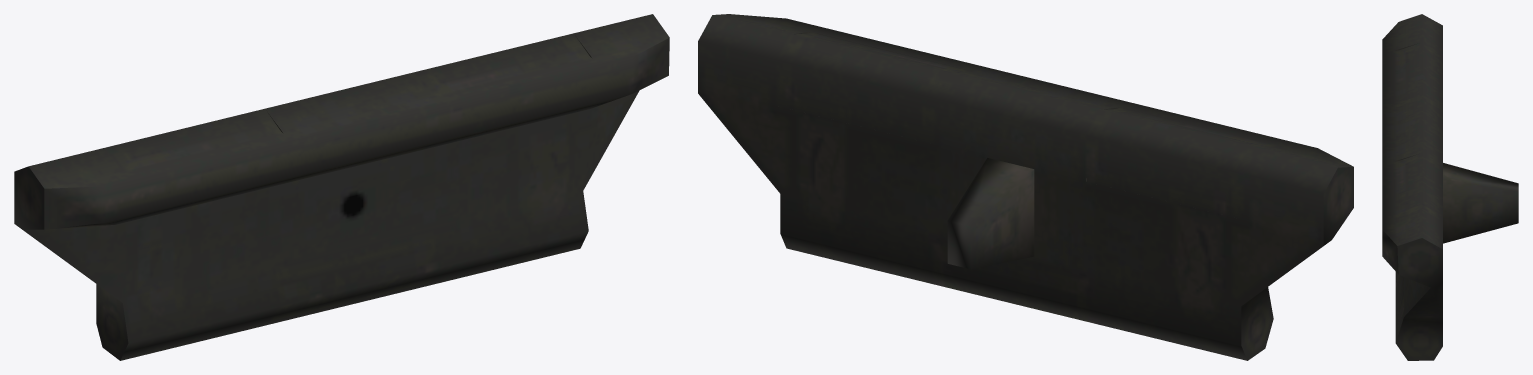
The picture shows the model from 3 angles, left to right: view 1: azimuth 30°, elevation 25°; view 2: azimuth 150°, elevation 25°; view 3: azimuth 270°, elevation 25°; orthographic projection. The views are drawn at different scales.
Parts seen in each view (by area): view 1: set_0_group_0; view 2: set_0_group_0; view 3: set_0_group_0.
Boxes of the visible parts, <box> form: set_0_group_0: <box>14,14,669,360</box>; set_0_group_0: <box>698,14,1353,360</box>; set_0_group_0: <box>1382,14,1518,360</box>.
Size of the model in its own units: 0.7 by 0.2223 by 0.18.
Materials: 1 (1 with a texture image).
